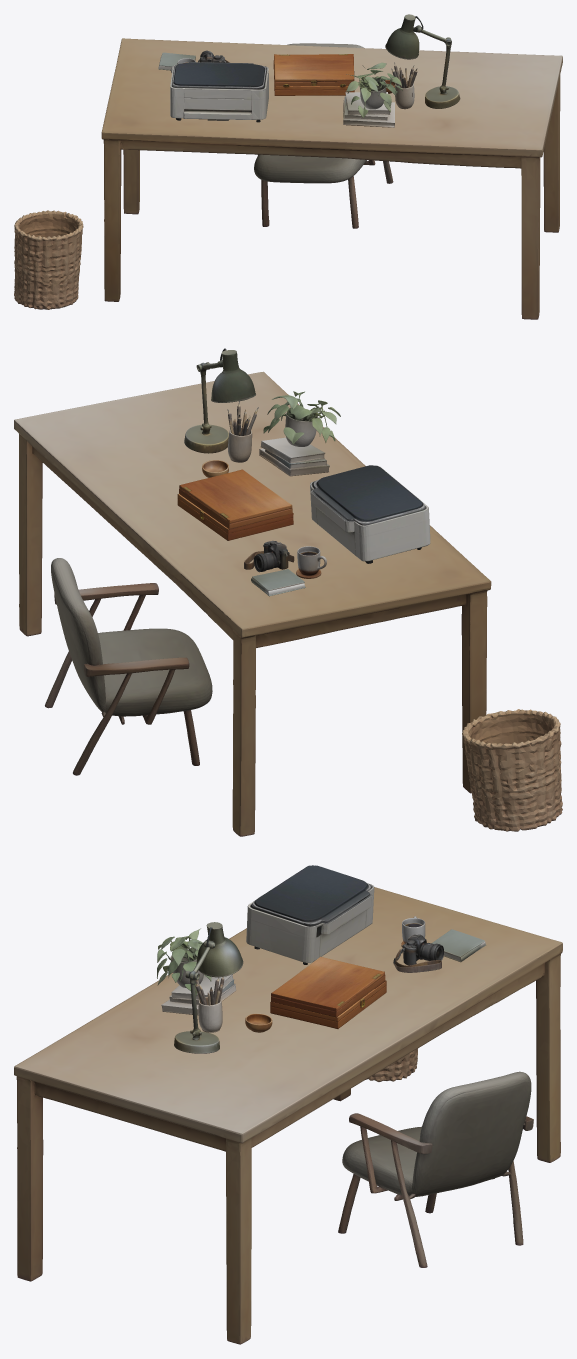
3 views of the same model, one above another, from view 1: azimuth 30°, elevation 25°; view 2: azimuth 150°, elevation 25°; view 3: azimuth 270°, elevation 25° (orthographic). The views are drawn at different scales.
Visible parts, largest first — view 1: obj_2_part_0, obj_12_part_0, obj_3_part_0, obj_1_part_0, obj_0_part_1, obj_1_part_1, obj_4_part_0, obj_7_part_0, obj_6_part_0, obj_0_part_0, obj_5_part_0; view 2: obj_2_part_0, obj_3_part_0, obj_12_part_0, obj_1_part_0, obj_1_part_1, obj_0_part_1, obj_4_part_0, obj_7_part_0, obj_6_part_0, obj_0_part_0, obj_5_part_0, obj_9_part_0 (+2 smaller); view 3: obj_2_part_0, obj_3_part_0, obj_1_part_0, obj_1_part_1, obj_0_part_1, obj_4_part_0, obj_7_part_0, obj_0_part_0, obj_9_part_0, obj_6_part_0, obj_5_part_0, obj_10_part_0 (+1 smaller).
Boxes of the visible parts, x1,y1,x2,y2 form: obj_2_part_0: (101,38,562,319); obj_12_part_0: (14,210,83,309); obj_3_part_0: (254,43,393,228); obj_1_part_0: (170,64,268,122); obj_0_part_1: (274,54,354,86); obj_1_part_1: (172,62,266,88); obj_4_part_0: (385,14,460,108); obj_7_part_0: (346,62,402,117); obj_6_part_0: (343,92,394,127); obj_0_part_0: (273,61,354,95); obj_5_part_0: (391,62,417,109); obj_2_part_0: (14,371,491,836); obj_3_part_0: (45,558,212,775); obj_12_part_0: (462,709,562,831); obj_1_part_0: (310,465,430,563); obj_1_part_1: (313,465,424,523); obj_0_part_1: (179,469,292,529); obj_4_part_0: (184,348,255,453); obj_7_part_0: (263,391,340,446); obj_6_part_0: (259,437,329,476); obj_0_part_0: (177,494,293,540); obj_5_part_0: (227,401,258,462); obj_9_part_0: (244,540,294,572); obj_2_part_0: (14,887,562,1344); obj_3_part_0: (338,1071,533,1267); obj_1_part_0: (246,883,374,964); obj_1_part_1: (253,865,370,924); obj_0_part_1: (271,956,385,1017); obj_4_part_0: (174,922,243,1053); obj_7_part_0: (157,928,211,995); obj_0_part_0: (270,980,386,1028); obj_9_part_0: (393,934,443,972); obj_6_part_0: (161,974,236,1015); obj_5_part_0: (195,977,224,1032); obj_10_part_0: (431,929,485,962).
Size of the model in its own units: 2.93 by 1.47 by 2.26.
5 materials, 4 textured.
